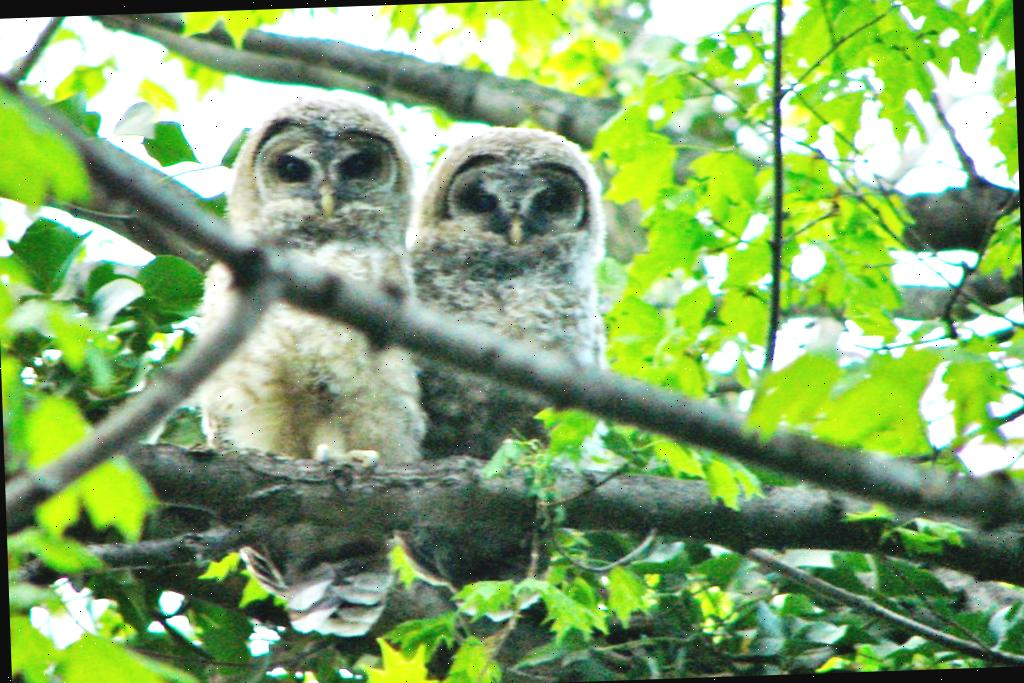Owl: (190, 85, 440, 646), (376, 116, 616, 638)
